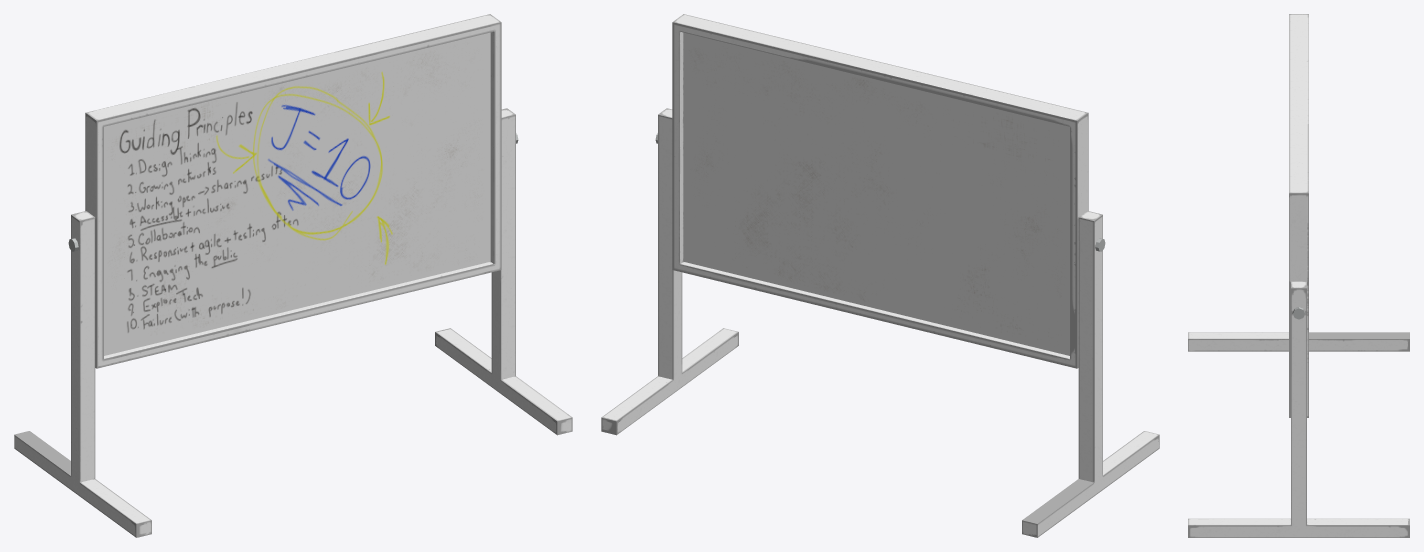
File: whiteboardStand1_obj.glb
3 views of the same model, side by side, from view 1: azimuth 30°, elevation 25°; view 2: azimuth 150°, elevation 25°; view 3: azimuth 270°, elevation 25° (orthographic). The views are drawn at different scales.
Parts seen in each view (by area): view 1: whiteboard_geo, hori_leg_R_geo, hori_leg_L_geo; view 2: whiteboard_geo, hori_leg_R_geo, hori_leg_L_geo; view 3: hori_leg_L_geo, whiteboard_geo, hori_leg_R_geo.
Part boxes in pixels (x1,y1,x2,y2): whiteboard_geo: (85,14,501,368); hori_leg_R_geo: (14,211,151,537); hori_leg_L_geo: (435,108,572,435); whiteboard_geo: (672,14,1088,368); hori_leg_R_geo: (1022,211,1159,537); hori_leg_L_geo: (601,108,738,435); hori_leg_L_geo: (1188,281,1409,537); whiteboard_geo: (1289,14,1308,417); hori_leg_R_geo: (1188,332,1409,351).
Bounding box in the file's own units: 2.68 × 2.15 × 1.28.
Materials: 1 (1 with a texture image).
